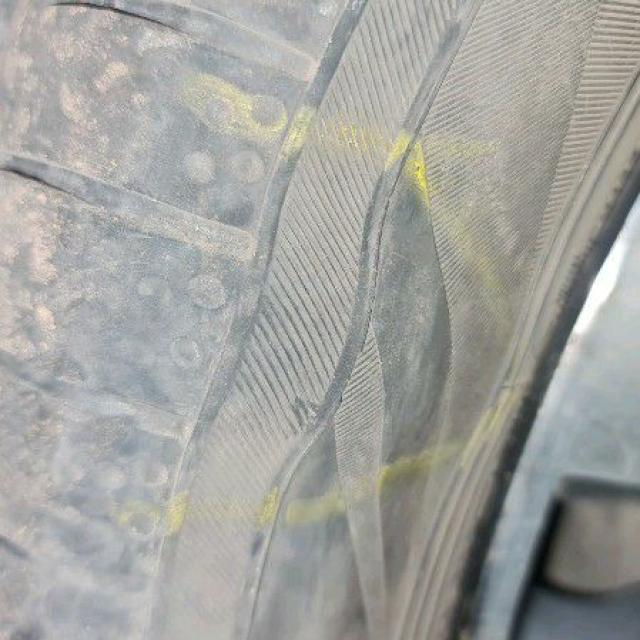Bulge: (200, 143, 468, 522)
